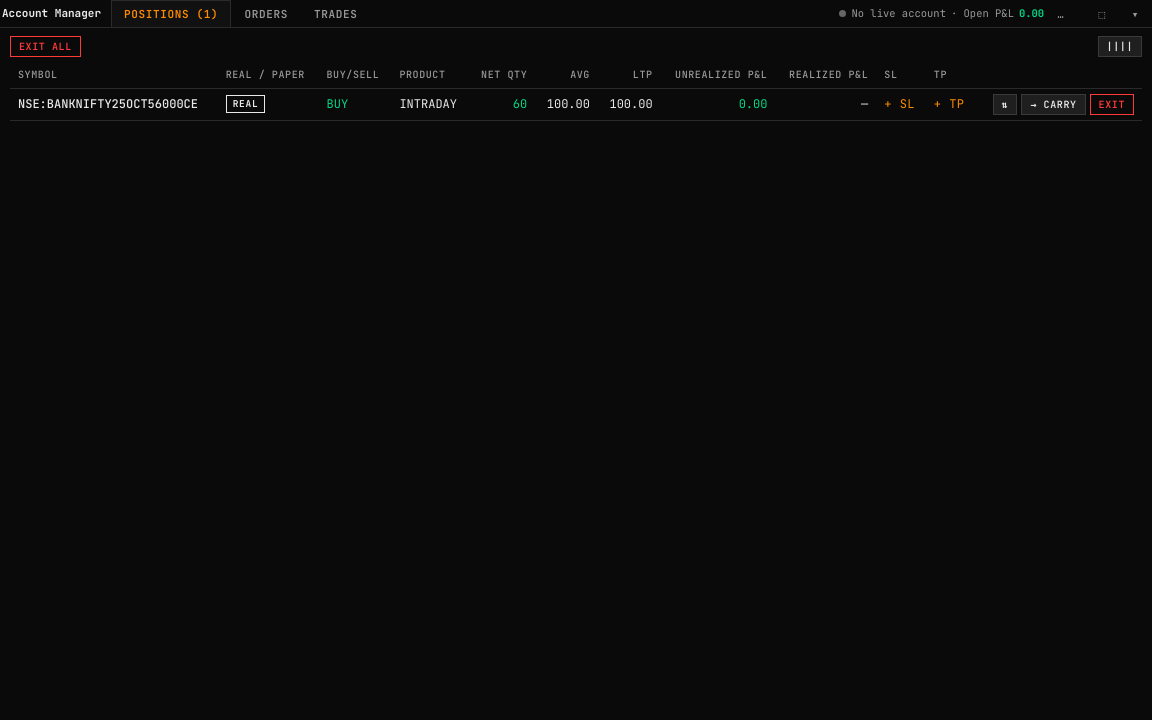
Test case: Positions panel › an option exit is checked against its own lot, not the charted symbol's
Click the button with test id "exit-NSE:BANKNIFTY25OCT56000CE" at (1112,104), box 1090,94 -> 1134,114
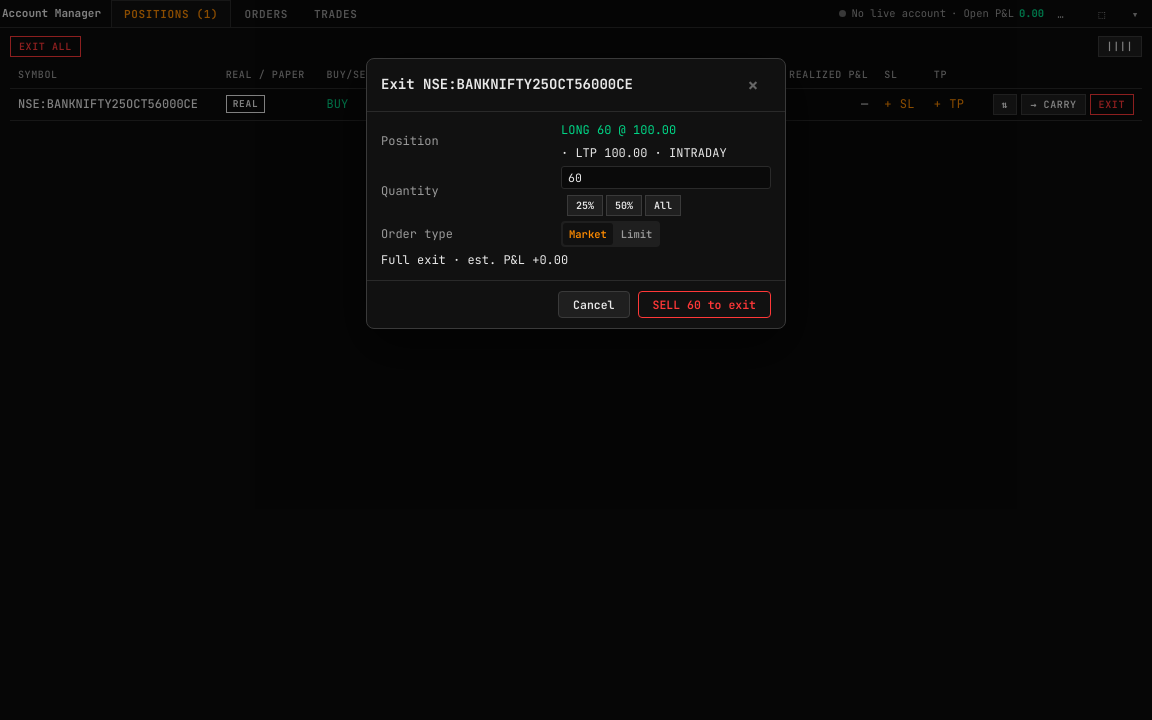
Replace the text in the number field with test id "exit-qty" with "45" at (666,178), box 561,166 -> 771,189
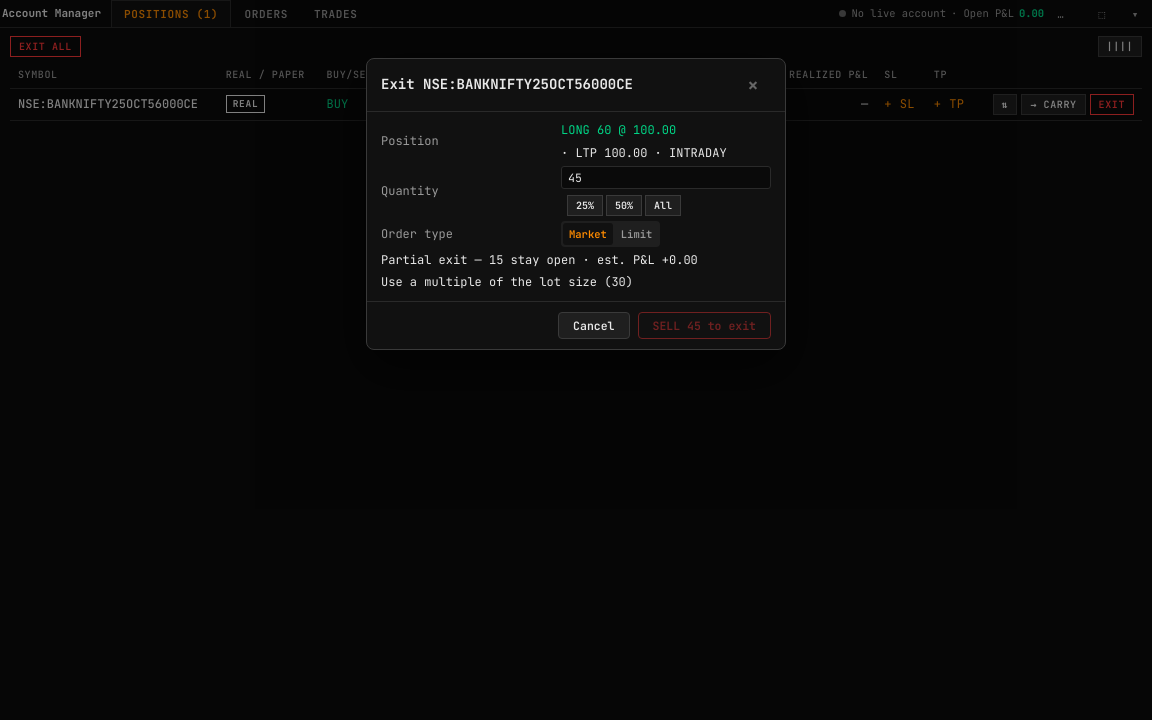
Check: the text "Use a multiple of the lot size (30)" is shown, box 381,274 -> 633,290
Replace the text in the number field with test id "exit-qty" with "30" at (666,178), box 561,166 -> 771,189
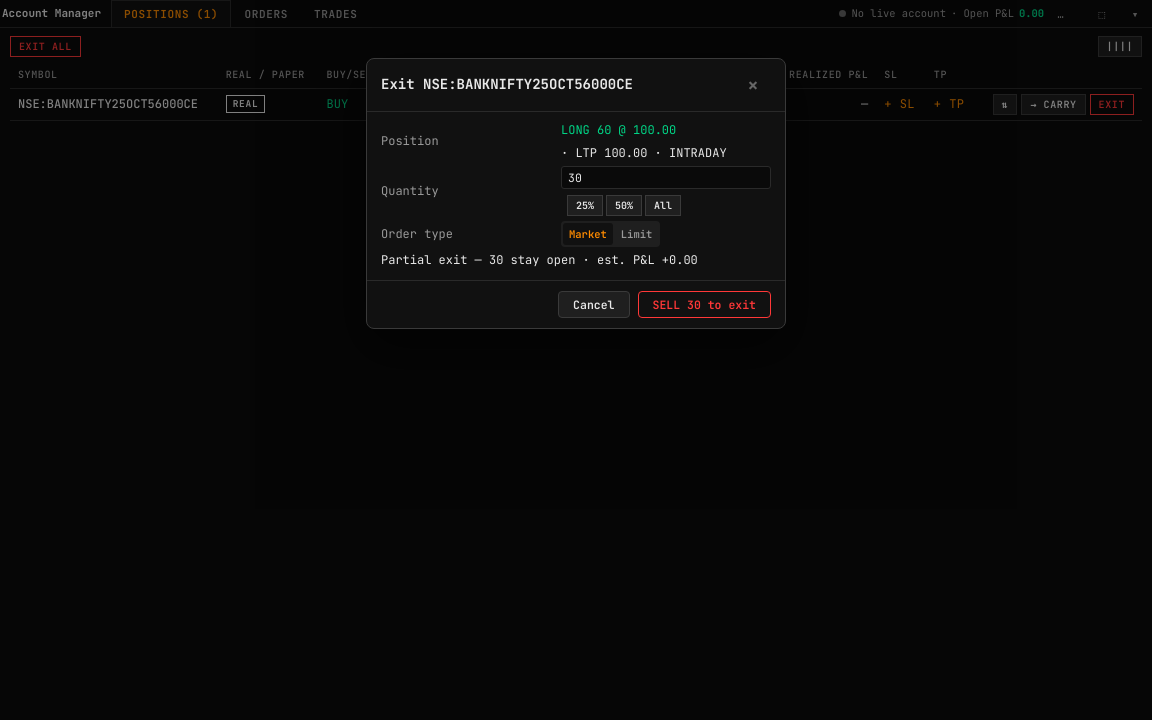
Check: the text "multiple of the lot size" is gone
